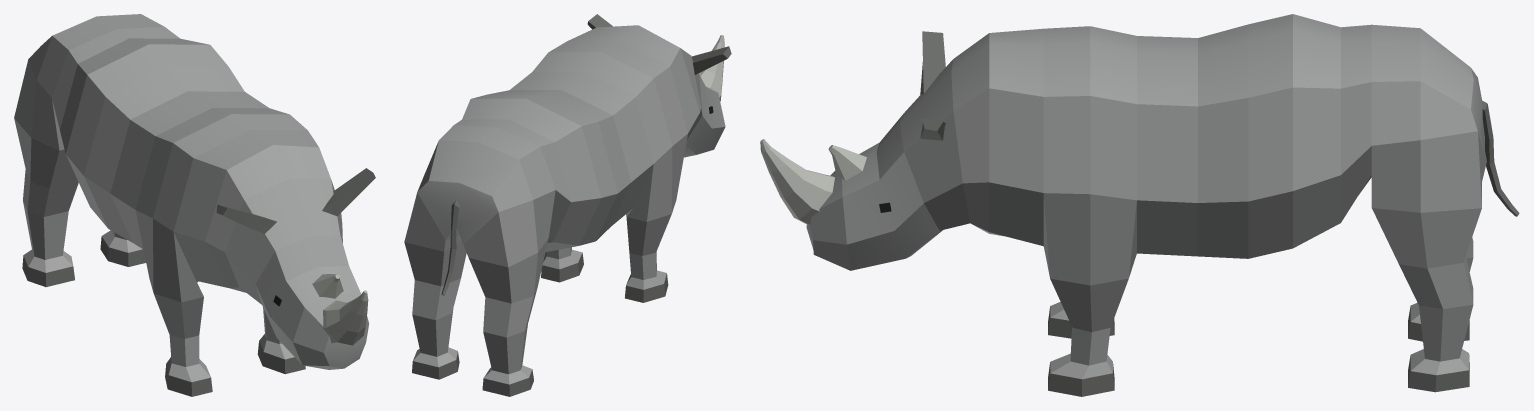
The model's file is 750c368c-d060-4055-82ea-efde3749fae5.glb.
3 views of the same model, side by side, from view 1: azimuth 30°, elevation 25°; view 2: azimuth 150°, elevation 25°; view 3: azimuth 270°, elevation 25° (orthographic). The views are drawn at different scales.
Visible parts, largest first — view 1: Geo_Rhinoceros; view 2: Geo_Rhinoceros; view 3: Geo_Rhinoceros.
Part boxes in pixels (<box>): Geo_Rhinoceros: <box>14,14,375,396</box>; Geo_Rhinoceros: <box>404,14,731,396</box>; Geo_Rhinoceros: <box>760,14,1519,396</box>.
Size of the model in its own units: 79.74 by 122 by 258.
Materials: 1 (1 with a texture image).
